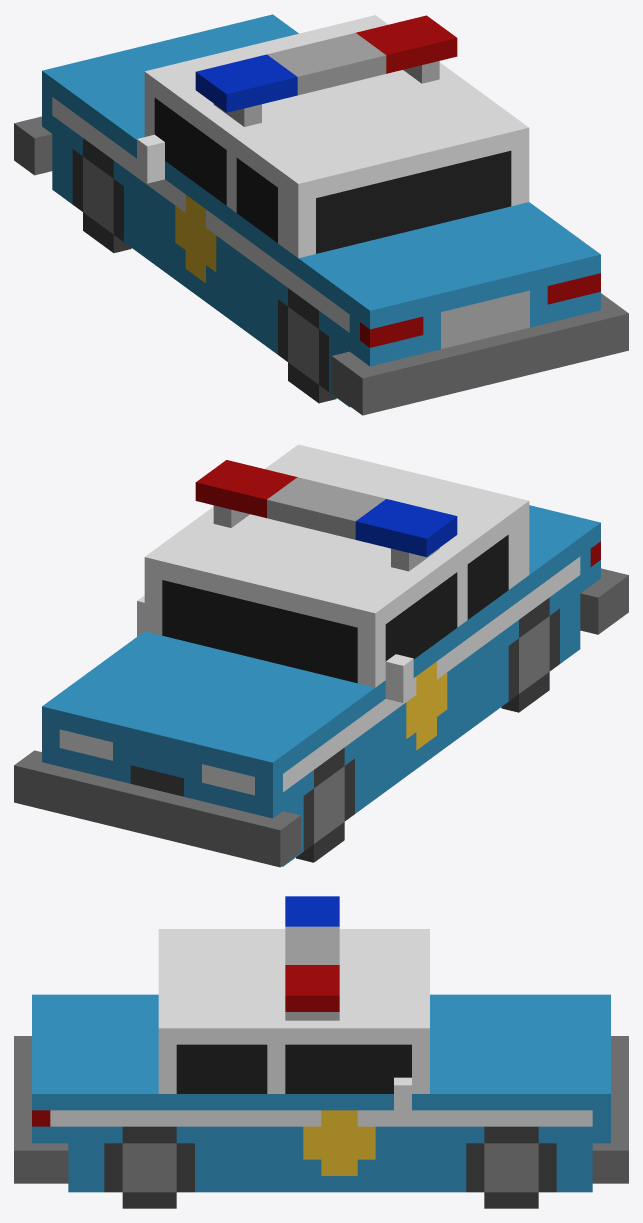
The model's file is veh_police1.obj.
3 renders of one model, top to bottom at view 1: azimuth 30°, elevation 25°; view 2: azimuth 150°, elevation 25°; view 3: azimuth 270°, elevation 25°, orthographic. The views are drawn at different scales.
Bounding box in the file's own units: 15 × 13 × 34.
Materials: 1 (1 with a texture image).
